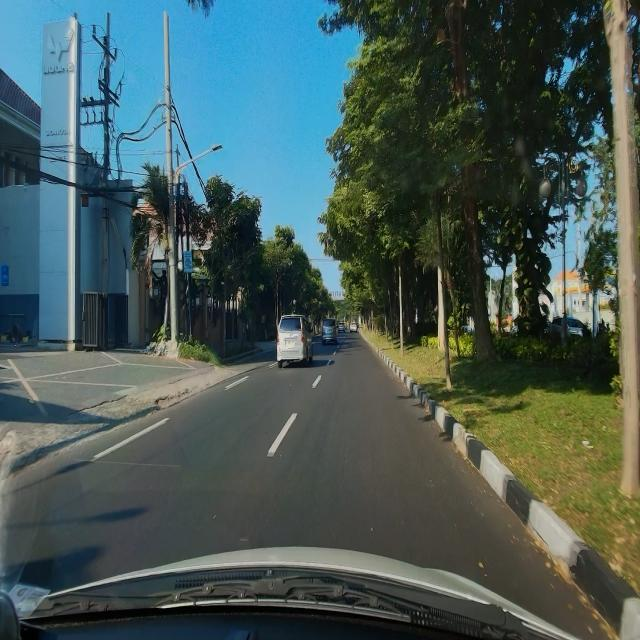car: (274, 314, 313, 370), (322, 318, 338, 347)
